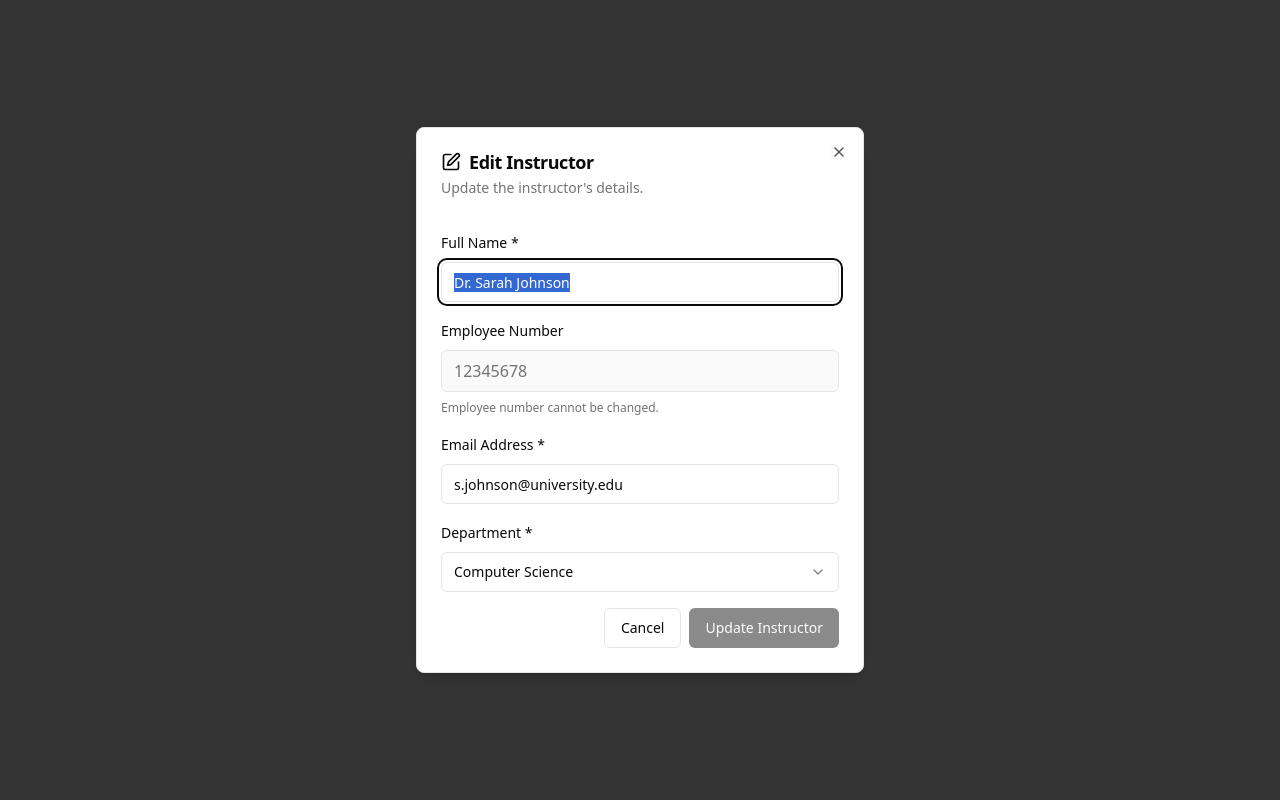
Scenario: EditInstructorModal › displays API error on submission failure
The image size is (1280, 800).
# Make a change to enable submit
In the field showing "Dr. Sarah Johnson": (640, 282) [441,262,839,302], type " Updated"
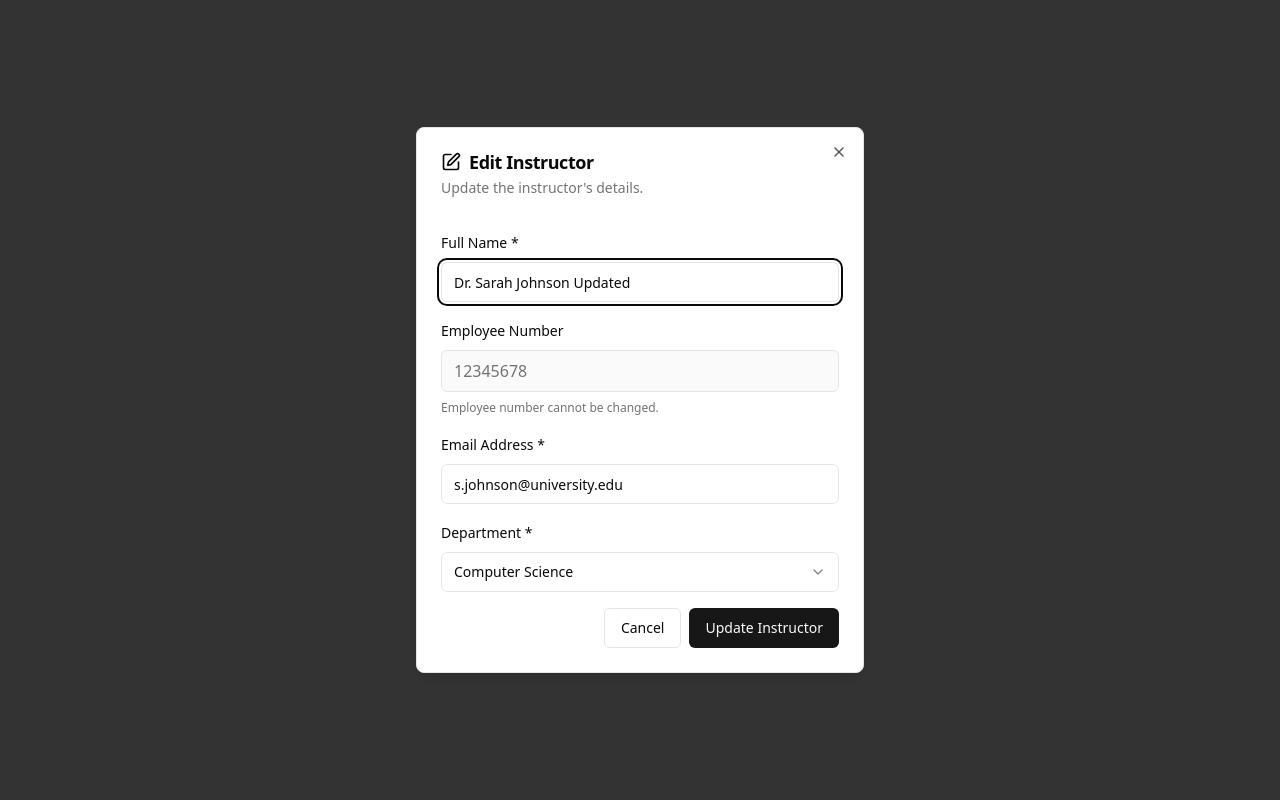
Click the button "Update Instructor": (764, 628) [690,608,839,648]
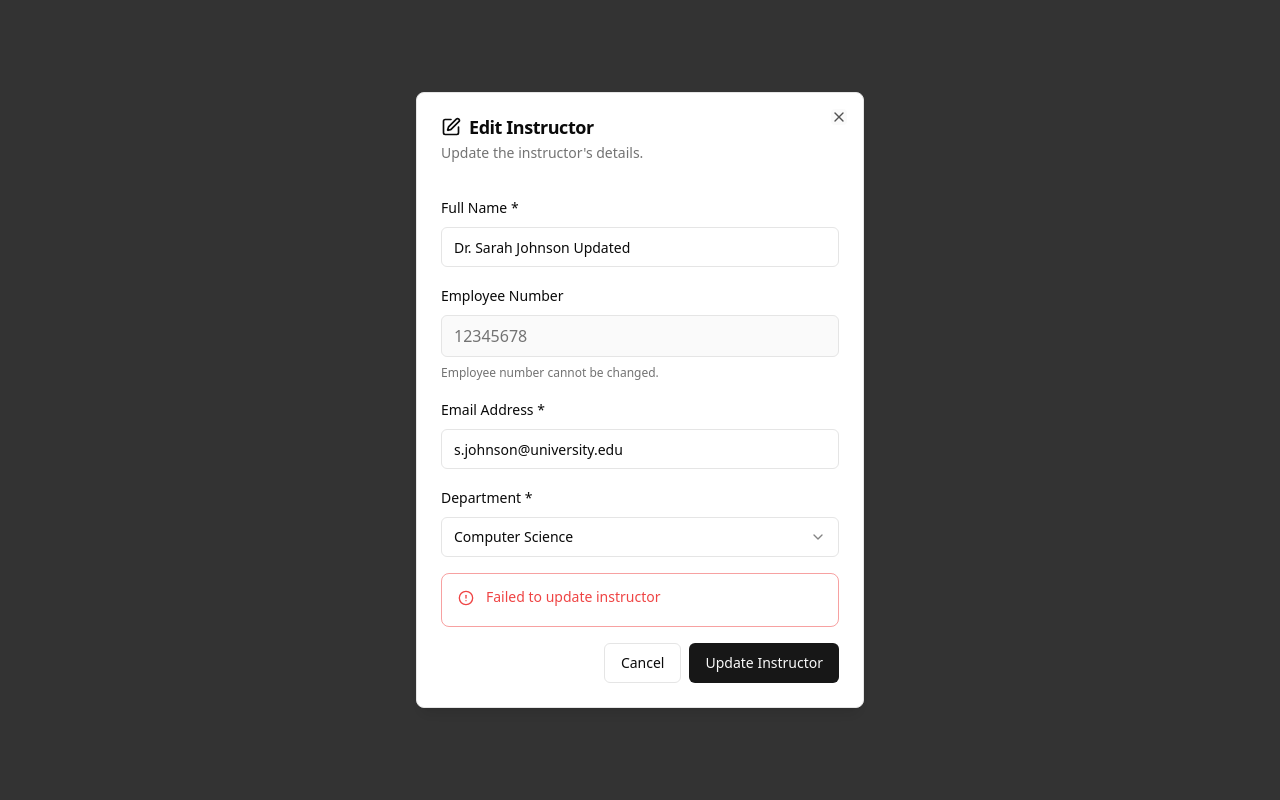
Now the button "Update Instructor" is enabled, box [690,643,839,683]
Now the text "Failed to update instructor" is shown, box [486,587,660,606]
